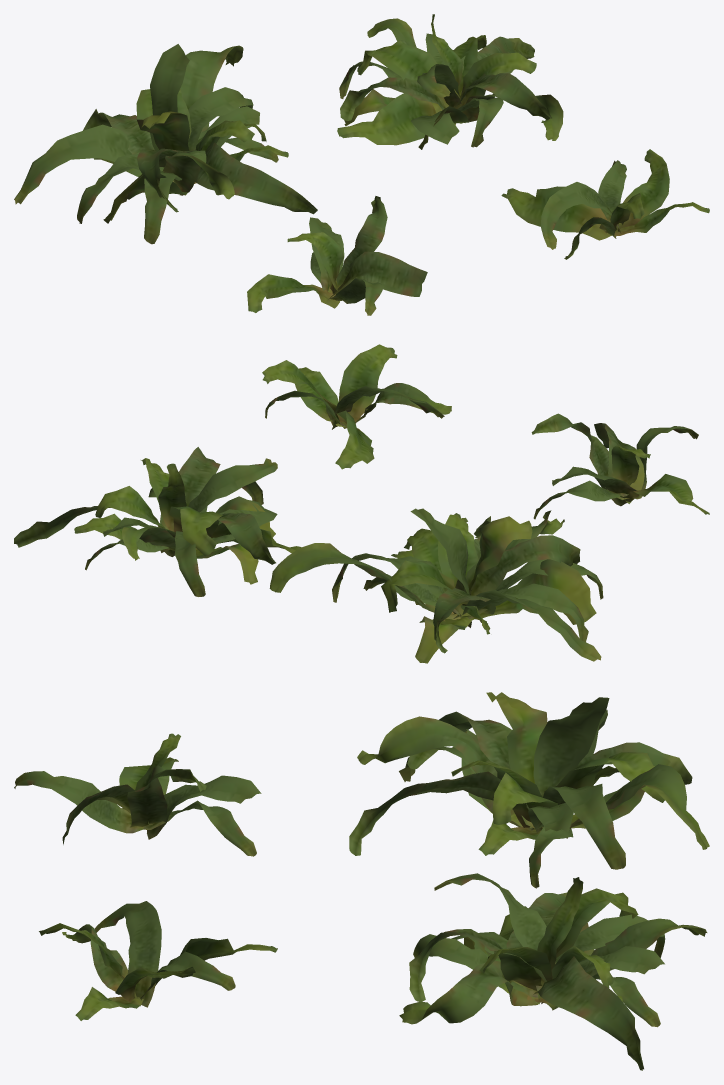
The model's file is fern_02.glb.
3 views of the same model, one above another, from view 1: azimuth 30°, elevation 25°; view 2: azimuth 150°, elevation 25°; view 3: azimuth 270°, elevation 25° (orthographic). The views are drawn at different scales.
Visible parts, largest first — view 1: fern_02_b, fern_02_c, fern_02_d, fern_02_a; view 2: fern_02_b, fern_02_c, fern_02_d, fern_02_a; view 3: fern_02_b, fern_02_c, fern_02_a, fern_02_d.
Boxes of the visible parts, box(x1,y1,x2,y2) form: fern_02_b: box(14, 44, 317, 244); fern_02_c: box(337, 14, 563, 149); fern_02_d: box(501, 149, 709, 259); fern_02_a: box(247, 196, 427, 315); fern_02_b: box(269, 508, 603, 663); fern_02_c: box(14, 447, 300, 596); fern_02_d: box(262, 344, 451, 469); fern_02_a: box(531, 413, 709, 519); fern_02_b: box(349, 692, 709, 888); fern_02_c: box(399, 873, 707, 1070); fern_02_a: box(14, 733, 261, 856); fern_02_d: box(39, 901, 277, 1020).
Bounding box in the file's own units: 1.97 × 0.4277 × 1.72.
Materials: 1 (1 with a texture image).
